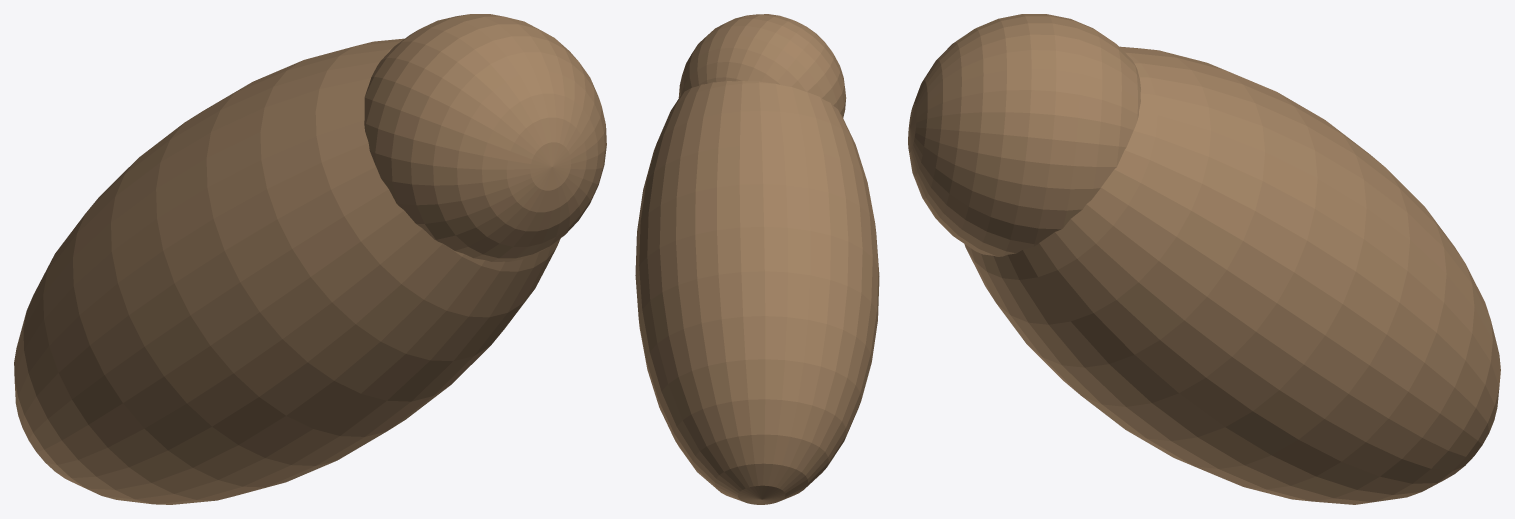
The model's file is AntebrazoDer_Jugador.obj.
3 renders of one model, left to right at view 1: azimuth 30°, elevation 25°; view 2: azimuth 150°, elevation 25°; view 3: azimuth 270°, elevation 25°, orthographic. The views are drawn at different scales.
Parts seen in each view (by area): view 1: AntebrazoDer_Jugador; view 2: AntebrazoDer_Jugador; view 3: AntebrazoDer_Jugador.
Part boxes in pixels (<box>): AntebrazoDer_Jugador: <box>14,14,606,504</box>; AntebrazoDer_Jugador: <box>635,14,879,504</box>; AntebrazoDer_Jugador: <box>908,14,1500,504</box>.
Size of the model in its own units: 1.2 by 1.61 by 1.59.
Materials: 1 (1 with a texture image).
